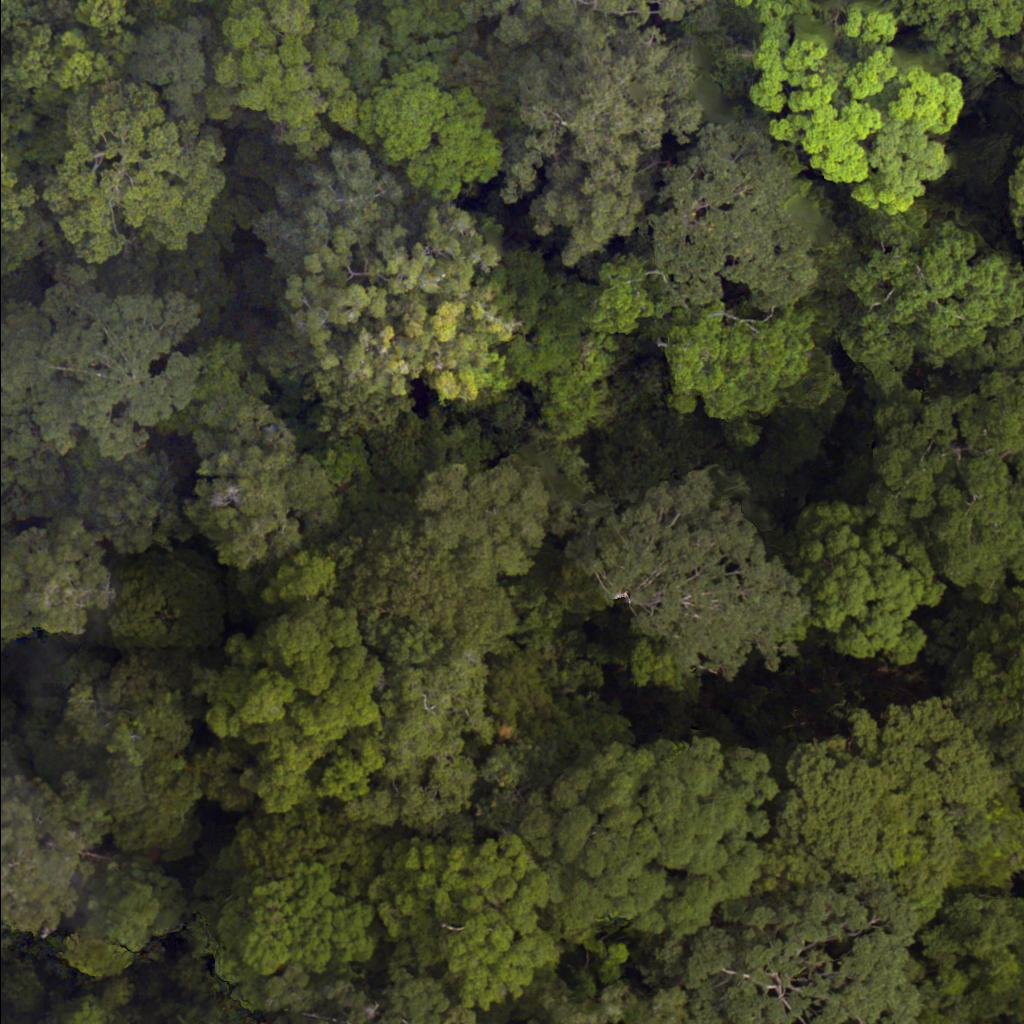crown: (686, 879, 917, 1023), (380, 831, 564, 1003), (217, 866, 390, 980), (919, 897, 1023, 1023), (76, 870, 179, 975), (0, 835, 74, 942), (57, 978, 135, 1023), (0, 959, 51, 1016), (0, 920, 8, 954), (918, 1018, 969, 1023)
